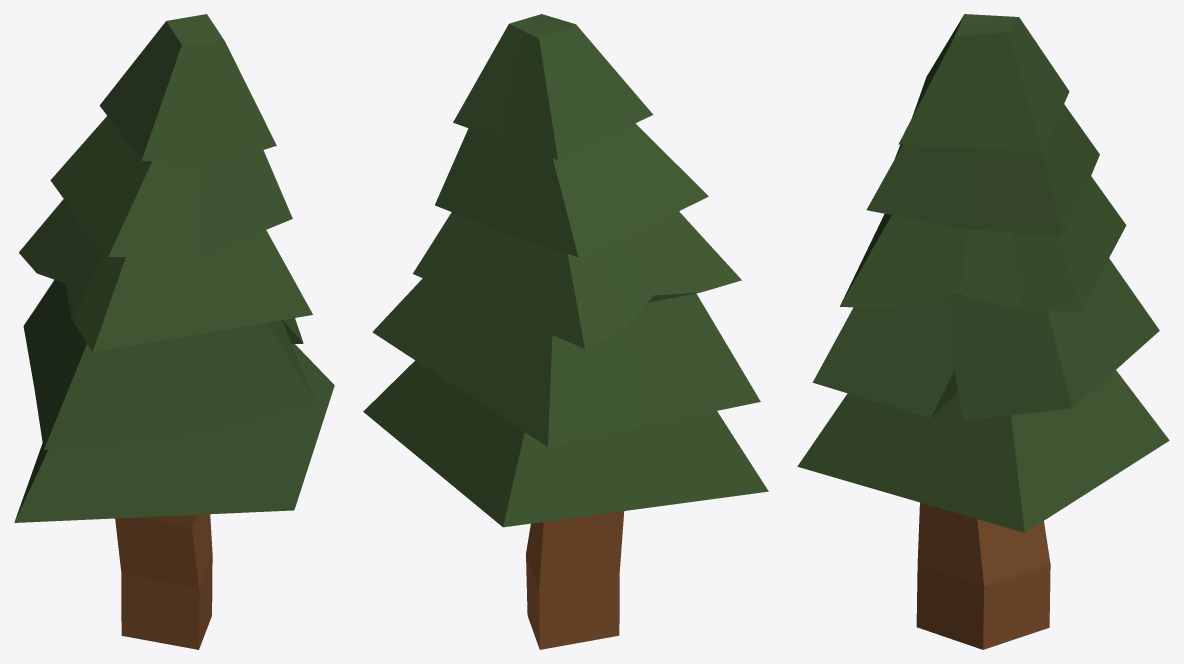
The model's file is charr2-usb.fbx.
3 renders of one model, left to right at view 1: azimuth 30°, elevation 25°; view 2: azimuth 150°, elevation 25°; view 3: azimuth 270°, elevation 25°, orthographic. The views are drawn at different scales.
Parts seen in each view (by area): view 1: Cylinder.005; view 2: Cylinder.005; view 3: Cylinder.005.
Boxes of the visible parts, x1,y1,x2,y2 form: Cylinder.005: [14, 14, 334, 649]; Cylinder.005: [363, 14, 768, 649]; Cylinder.005: [797, 14, 1169, 649].
Bounding box in the file's own units: 588 × 922 × 501.
